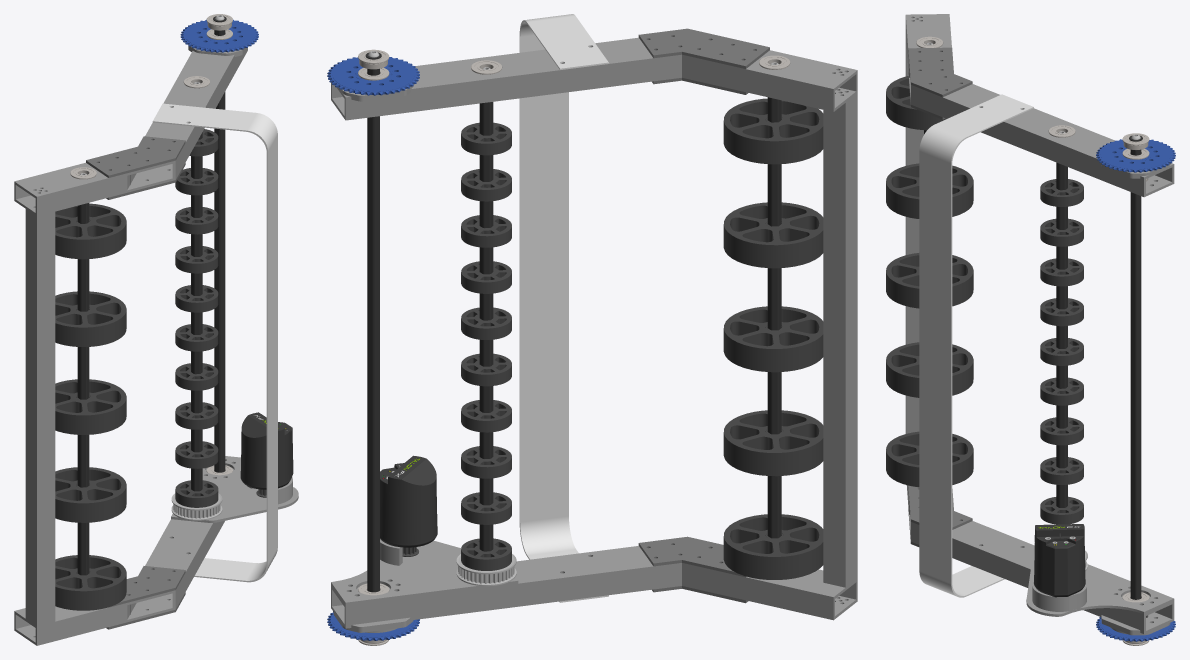
3 renders of one model, left to right at view 1: azimuth 30°, elevation 25°; view 2: azimuth 150°, elevation 25°; view 3: azimuth 270°, elevation 25°, orthographic. The views are drawn at different scales.
Visible parts, largest first — view 1: 4 Inch Thrifty Squish Wheel (TTB-0057) (×5), Part 8, Shaft (×3), 2" OD 30A Thrifty Squish Wheel (TTB-0032) (×10), Tube 2"x1"x16.615" (×2), Part 12, Tube 2"x1"x6.75" (×2), Part 7 (×2), Kraken X60 Brushless Motor, Part 5, am-4783 44T 25 Chain 1125in Plate, 36t 9mm Wide 1/2" Hex Bore Double Flange 5mm HTD Aluminum Pu; view 2: 4 Inch Thrifty Squish Wheel (TTB-0057) (×5), Part 12, Tube 2"x1"x16.615" (×2), Part 8, Shaft (×3), 2" OD 30A Thrifty Squish Wheel (TTB-0032) (×10), Tube 2"x1"x6.75" (×2), Part 7 (×2), Kraken X60 Brushless Motor, Part 5, am-4783 44T 25 Chain 1125in Plate (×2), 36t 9mm Wide 1/2" Hex Bore Double Flange 5mm HTD Aluminum Pu; view 3: Part 12, Tube 2"x1"x16.615" (×2), 4 Inch Thrifty Squish Wheel (TTB-0057) (×5), 2" OD 30A Thrifty Squish Wheel (TTB-0032) (×9), Shaft (×2), Kraken X60 Brushless Motor, Part 7 (×2), Part 5, am-4783 44T 25 Chain 1125in Plate (×2), Part 8, Tube 2"x1"x6.75", Part 11 (+1 smaller).
Part boxes in pixels (x1,y1,x2,y2): 4 Inch Thrifty Squish Wheel (TTB-0057) (×5): (55,203,126,610); Part 8: (25,209,55,626); Shaft (×3): (77,15,226,575); 2" OD 30A Thrifty Squish Wheel (TTB-0032) (×10): (175,129,218,507); Tube 2"x1"x16.615" (×2): (124,48,247,622); Part 12: (152,103,277,582); Tube 2"x1"x6.75" (×2): (14,162,123,645); Part 7 (×2): (86,136,185,607); Kraken X60 Brushless Motor: (240,412,293,489); Part 5: (171,456,298,522); am-4783 44T 25 Chain 1125in Plate: (180,19,258,52); 36t 9mm Wide 1/2" Hex Bore Double Flange 5mm HTD Aluminum Pu: (171,493,222,520); 4 Inch Thrifty Squish Wheel (TTB-0057) (×5): (723,98,823,579); Part 12: (519,14,608,602); Tube 2"x1"x16.615" (×2): (331,37,681,628); Part 8: (823,93,857,587); Shaft (×3): (365,51,781,592); 2" OD 30A Thrifty Squish Wheel (TTB-0032) (×10): (461,122,511,570); Tube 2"x1"x6.75" (×2): (682,50,857,620); Part 7 (×2): (638,28,769,577); Kraken X60 Brushless Motor: (380,455,437,547); Part 5: (331,540,518,605); am-4783 44T 25 Chain 1125in Plate (×2): (327,57,419,640); 36t 9mm Wide 1/2" Hex Bore Double Flange 5mm HTD Aluminum Pu: (456,554,516,586); Part 12: (919,94,1033,597); Tube 2"x1"x16.615" (×2): (909,62,1174,634); 4 Inch Thrifty Squish Wheel (TTB-0057) (×5): (886,76,973,487); 2" OD 30A Thrifty Squish Wheel (TTB-0032) (×9): (1040,179,1083,524); Shaft (×2): (1056,131,1142,599); Kraken X60 Brushless Motor: (1034,524,1085,597); Part 7 (×2): (908,47,972,529); Part 5: (1026,564,1174,616); am-4783 44T 25 Chain 1125in Plate (×2): (1096,139,1175,641); Part 8: (905,35,923,433); Tube 2"x1"x6.75": (905,14,951,76); Part 11: (1032,583,1086,611).
Bounding box in the file's own units: 0.4549 × 0.6502 × 0.336.
